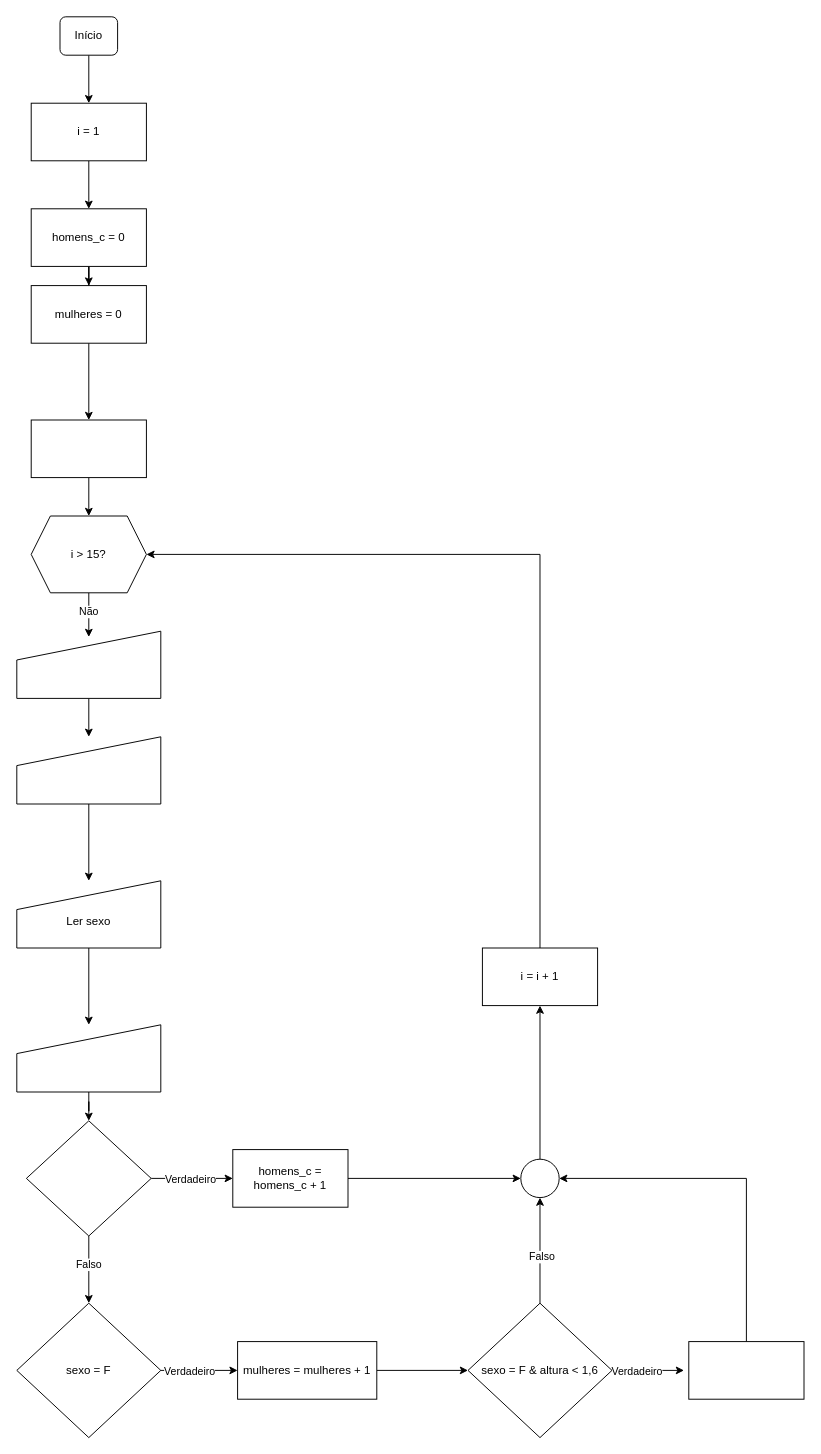
Some shapes in this 821 by 1454 pixel diagram are drawn without their labels. Here are the shapes that lost their labels. From the top down, the centre of each, then its label:
[88,448]: mulheres_1,6 = 0
[88,664]: Ler nome
[88,770]: Ler altura
[88,1058]: Ler corO
[88,1178]: sexo = M & corO = C
[746,1370]: mulheres_1,6 = mulheres_1,6 + 1
